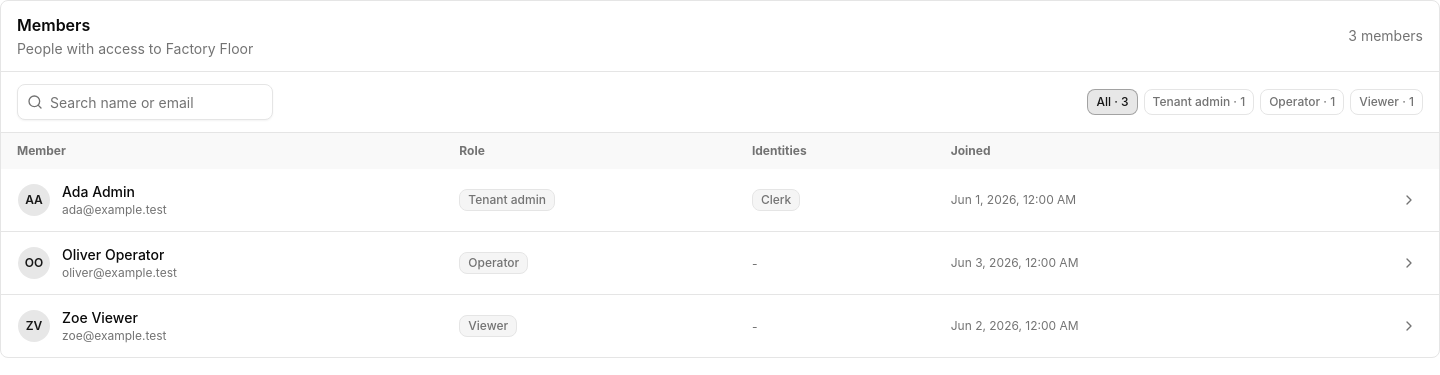
Test case: MembersSection › filters members by the search query
This screenshot has width=1440, height=375.
Type "zoe" into the search field named "Search members" at (145,102), box [17,84,273,120]
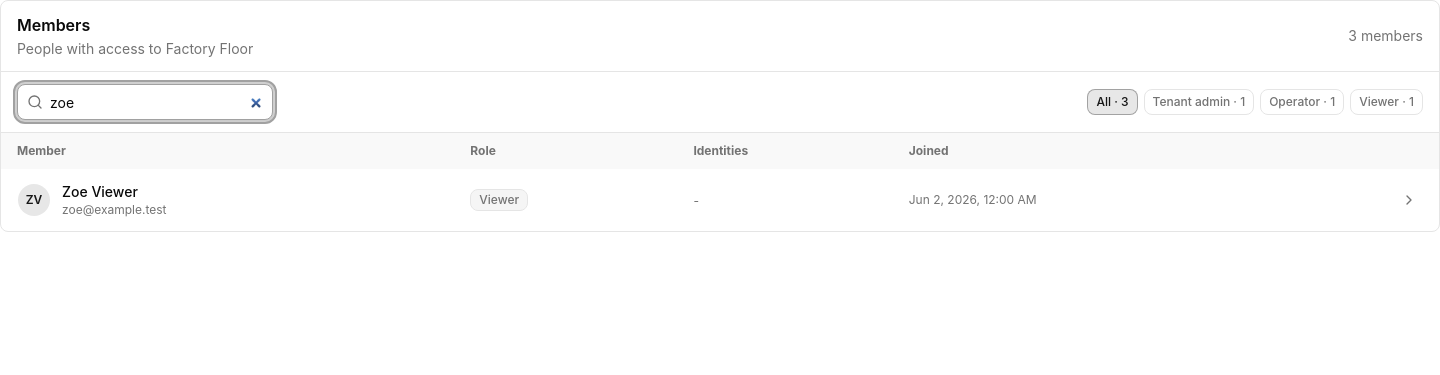
Expected: the text "Zoe Viewer" is shown, [62,182,138,202]
Expected: the button "Ada Admin" is gone
Expected: the button "Oliver Operator" is gone
